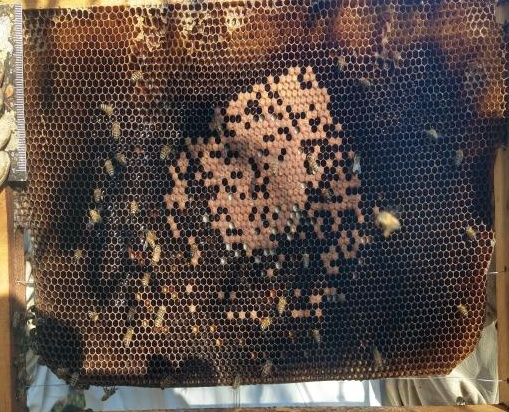cria: (163, 66, 375, 320)
